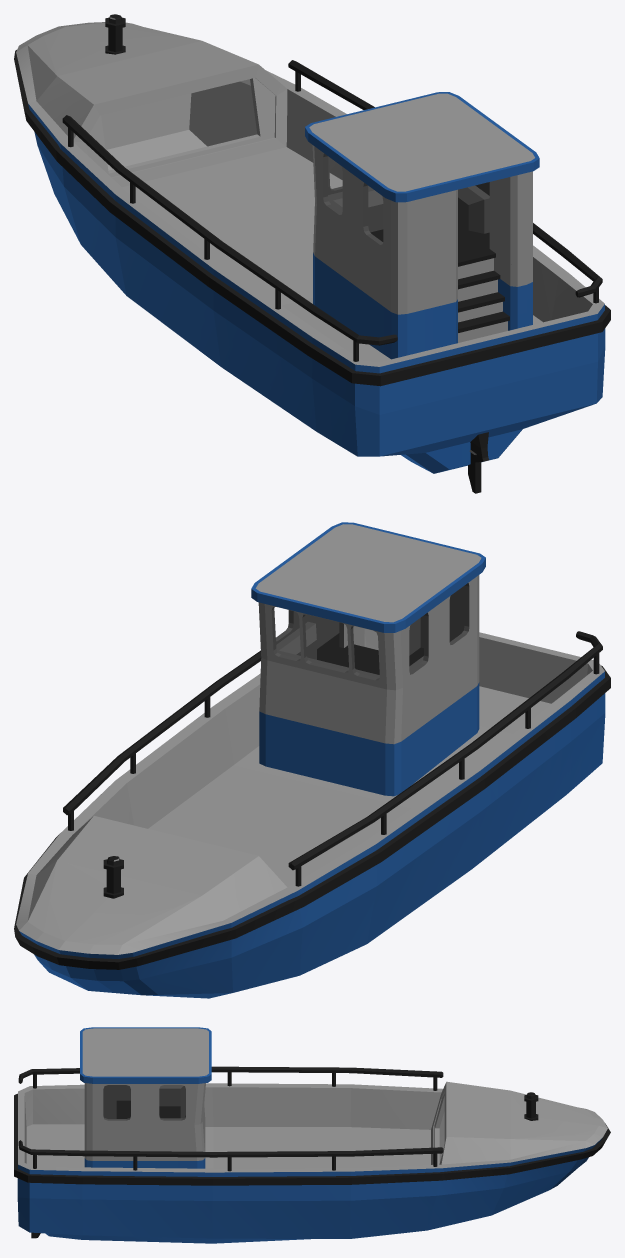
Rendered from fisher_3.FBX.
The picture shows the model from 3 angles, top to bottom: view 1: azimuth 30°, elevation 25°; view 2: azimuth 150°, elevation 25°; view 3: azimuth 270°, elevation 25°; orthographic projection. The views are drawn at different scales.
Visible parts, largest first — view 1: fisher_3; view 2: fisher_3; view 3: fisher_3.
Part boxes in pixels (<box>): fisher_3: <box>14,14,610,493</box>; fisher_3: <box>14,522,610,998</box>; fisher_3: <box>14,1027,610,1243</box>.
Size of the model in its own units: 128 by 125 by 347.
